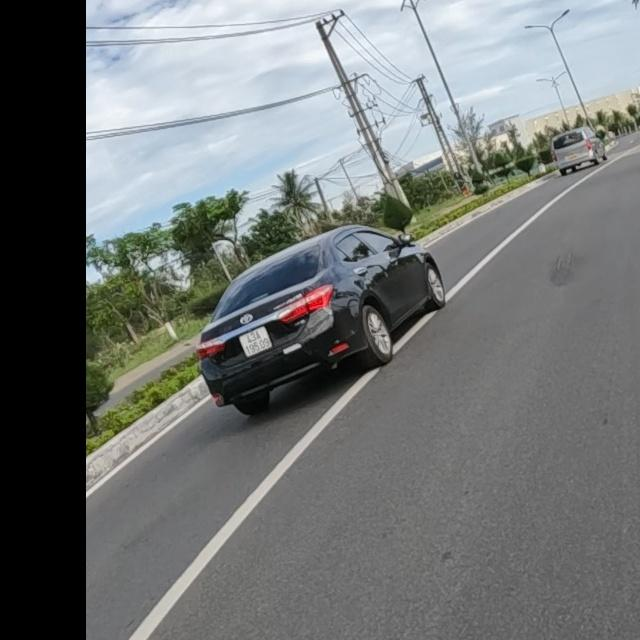license-plate: (237, 325, 274, 358)
